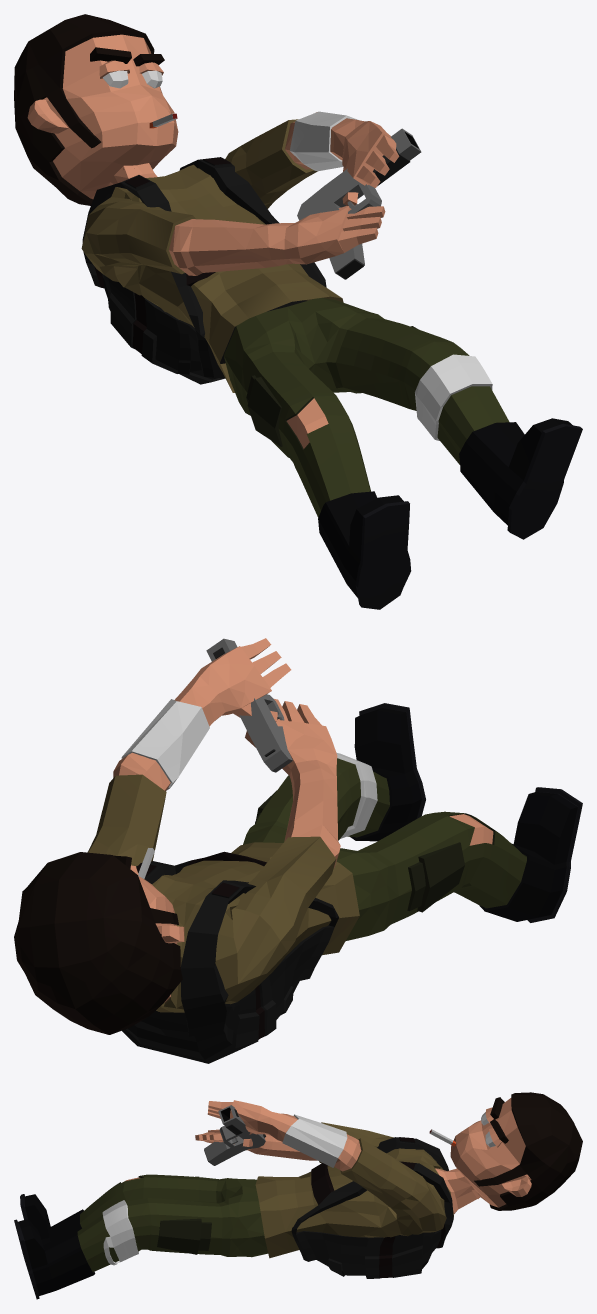
File: frame_0044.obj
The picture shows the model from 3 angles, top to bottom: view 1: azimuth 30°, elevation 25°; view 2: azimuth 150°, elevation 25°; view 3: azimuth 270°, elevation 25°; orthographic projection. The views are drawn at different scales.
Visible parts, largest first — view 1: Body, Gun; view 2: Body, Gun; view 3: Body, Gun.
Boxes of the visible parts, x1,y1,x2,y2 form: Body: (14,14,582,609); Gun: (297,128,421,279); Body: (14,638,582,1063); Gun: (206,638,292,772); Body: (14,1092,582,1299); Gun: (204,1105,265,1165).
Size of the model in its own units: 1.22 by 1.83 by 4.14.
